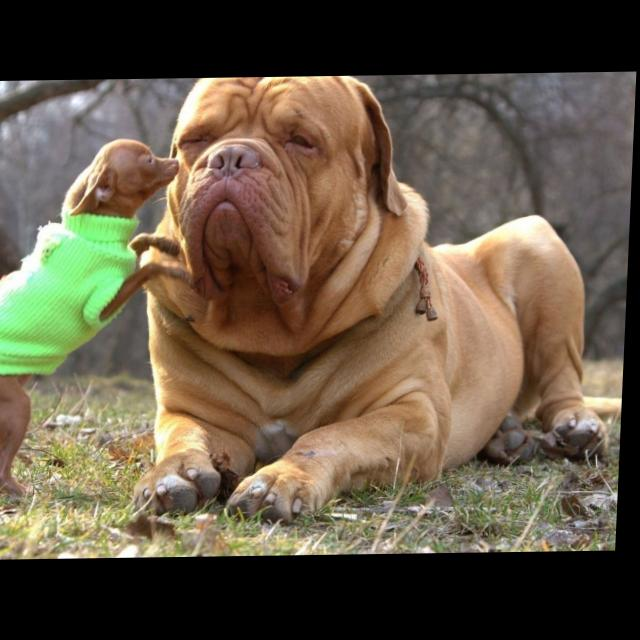dogue_de_bordeaux: (137, 74, 638, 523)
other_dog_breed: (1, 138, 186, 500)
